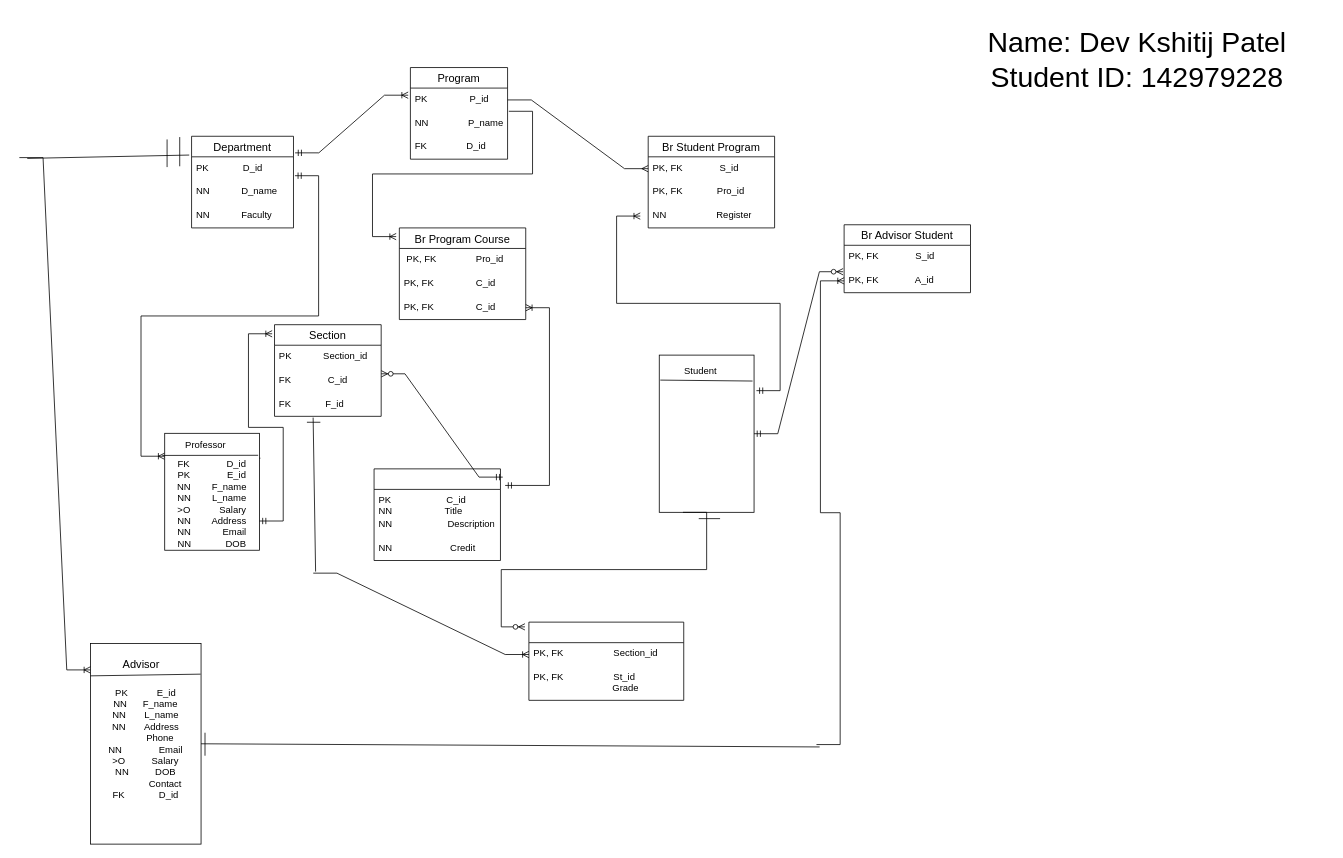
This 1343x858 diagram has some shape labels left out. The box of each missing label's shape, as (x1, y1, x2, y2) in pixels:
Br Student section: (528, 621, 684, 700)
Course: (373, 468, 500, 561)
PK S_id NN F_name NN L_name NN Address Phone NN email contact NN DOB: (658, 354, 754, 512)
